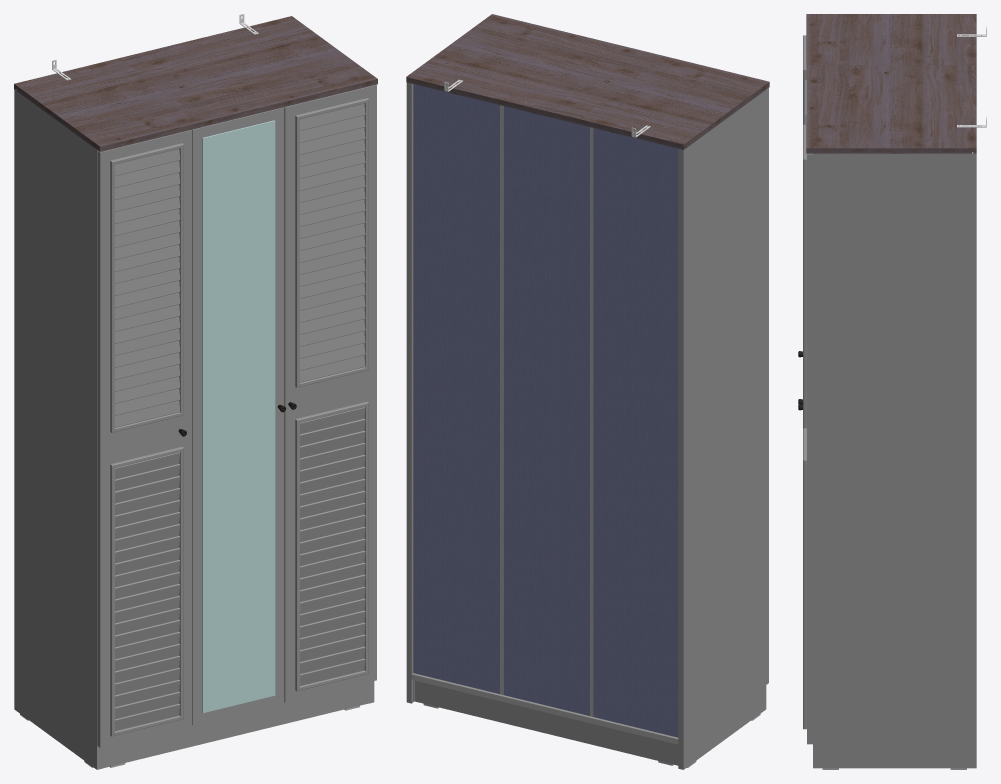
3 views of the same model, side by side, from view 1: azimuth 30°, elevation 25°; view 2: azimuth 150°, elevation 25°; view 3: azimuth 270°, elevation 25° (orthographic).
Parts seen in each view (by area): view 1: 3_kapaklı_dolap_v3_SOL PANEL-1 - Parça, 3_kapaklı_dolap_v3_SRMB_AYN_4MM,-1 - Parça, 3_kapaklı_dolap_v3_ÜST PANEL-1 - Parça, 3_kapaklı_dolap_v3_SAMET_MENTEŞE_1_Kapak_2-1 - Parça, 3_kapaklı_dolap_v3_SAMET_MENTEŞE_2_Kapak_1-1 - Parça, 3_kapaklı_dolap_v3_SAMET_MENTEŞE_1_Kapak_1-1 - Parça, 3_kapaklı_dolap_v3_BAZA-1 - Parça, 3_kapaklı_dolap_v3_SAMET_MENTEŞE_2_Kapak_1-1 - Parça 2, 3_kapaklı_dolap_v3_Alınmış88-35 - Parça, 3_kapaklı_dolap_v3_Alınmış88-40 - Parça, 3_kapaklı_dolap_v3_Alınmış88-42 - Parça, 3_kapaklı_dolap_v3_Alınmış88-29 - Parça (+40 smaller); view 2: 3_kapaklı_dolap_v3_SOL PANEL-1 - Parça, 3_kapaklı_dolap_v3_Arkalık_1_Arkalık-8 - Parça, 3_kapaklı_dolap_v3_Arkalık_1_Arkalık-7 - Parça, 3_kapaklı_dolap_v3_Arkalık_1_Arkalık-1 - Parça, 3_kapaklı_dolap_v3_ÜST PANEL-1 - Parça, 3_kapaklı_dolap_v3_ARKALIK-1 - Parça, 3_kapaklı_dolap_v3_SOL PANEL-1 - Parça 2, 3_kapaklı_dolap_v3_SAĞ PANEL-1 - Parça 2, 3_kapaklı_dolap_v3_Arkalık_1_H Profil-1 - Parça, 3_kapaklı_dolap_v3_Arkalık_1_H Profil-2 - Parça, 3_kapaklı_dolap_v3_ÜST PANEL-1 - Parça 2, 3_kapaklı_dolap_v3_SAĞ PANEL-1 - Parça (+2 smaller); view 3: 3_kapaklı_dolap_v3_SAĞ PANEL-1 - Parça, 3_kapaklı_dolap_v3_ÜST PANEL-1 - Parça, 3_kapaklı_dolap_v3_SAMET_MENTEŞE_1_Kapak_2-1 - Parça 2, PRFL_SRMD2^3_kapaklı_dolap_v3_SAMET_MENTEŞE_2-9 - Parça, PRFL_SRMD2^3_kapaklı_dolap_v3_SAMET_MENTEŞE_2-11 - Parça, 3_kapaklı_dolap_v3_ÜST PANEL-1 - Parça 2.
Boxes of the visible parts, x1=… form: 3_kapaklı_dolap_v3_SOL PANEL-1 - Parça: x1=14, y1=89, x2=96, y2=769; 3_kapaklı_dolap_v3_SRMB_AYN_4MM,-1 - Parça: x1=202, y1=120, x2=275, y2=712; 3_kapaklı_dolap_v3_ÜST PANEL-1 - Parça: x1=14, y1=16, x2=377, y2=146; 3_kapaklı_dolap_v3_SAMET_MENTEŞE_1_Kapak_2-1 - Parça: x1=285, y1=85, x2=376, y2=702; 3_kapaklı_dolap_v3_SAMET_MENTEŞE_2_Kapak_1-1 - Parça: x1=100, y1=130, x2=191, y2=747; 3_kapaklı_dolap_v3_SAMET_MENTEŞE_1_Kapak_1-1 - Parça: x1=192, y1=108, x2=284, y2=724; 3_kapaklı_dolap_v3_BAZA-1 - Parça: x1=102, y1=682, x2=368, y2=768; 3_kapaklı_dolap_v3_SAMET_MENTEŞE_2_Kapak_1-1 - Parça 2: x1=97, y1=130, x2=191, y2=747; 3_kapaklı_dolap_v3_Alınmış88-35 - Parça: x1=300, y1=331, x2=365, y2=382; 3_kapaklı_dolap_v3_Alınmış88-40 - Parça: x1=300, y1=479, x2=365, y2=530; 3_kapaklı_dolap_v3_Alınmış88-42 - Parça: x1=300, y1=443, x2=365, y2=494; 3_kapaklı_dolap_v3_Alınmış88-29 - Parça: x1=300, y1=115, x2=365, y2=166; 3_kapaklı_dolap_v3_SOL PANEL-1 - Parça: x1=683, y1=90, x2=766, y2=769; 3_kapaklı_dolap_v3_Arkalık_1_Arkalık-8 - Parça: x1=413, y1=84, x2=499, y2=693; 3_kapaklı_dolap_v3_Arkalık_1_Arkalık-7 - Parça: x1=503, y1=106, x2=589, y2=715; 3_kapaklı_dolap_v3_Arkalık_1_Arkalık-1 - Parça: x1=593, y1=128, x2=678, y2=737; 3_kapaklı_dolap_v3_ÜST PANEL-1 - Parça: x1=406, y1=14, x2=769, y2=147; 3_kapaklı_dolap_v3_ARKALIK-1 - Parça: x1=414, y1=680, x2=678, y2=765; 3_kapaklı_dolap_v3_SOL PANEL-1 - Parça 2: x1=678, y1=148, x2=683, y2=769; 3_kapaklı_dolap_v3_SAĞ PANEL-1 - Parça 2: x1=406, y1=82, x2=411, y2=703; 3_kapaklı_dolap_v3_Arkalık_1_H Profil-1 - Parça: x1=590, y1=127, x2=593, y2=716; 3_kapaklı_dolap_v3_Arkalık_1_H Profil-2 - Parça: x1=500, y1=105, x2=503, y2=694; 3_kapaklı_dolap_v3_ÜST PANEL-1 - Parça 2: x1=406, y1=77, x2=769, y2=149; 3_kapaklı_dolap_v3_SAĞ PANEL-1 - Parça: x1=411, y1=83, x2=414, y2=703; 3_kapaklı_dolap_v3_SAĞ PANEL-1 - Parça: x1=813, y1=152, x2=976, y2=768; 3_kapaklı_dolap_v3_ÜST PANEL-1 - Parça: x1=806, y1=14, x2=976, y2=148; 3_kapaklı_dolap_v3_SAMET_MENTEŞE_1_Kapak_2-1 - Parça 2: x1=807, y1=153, x2=812, y2=744; PRFL_SRMD2^3_kapaklı_dolap_v3_SAMET_MENTEŞE_2-9 - Parça: x1=803, y1=159, x2=806, y2=428; PRFL_SRMD2^3_kapaklı_dolap_v3_SAMET_MENTEŞE_2-11 - Parça: x1=803, y1=460, x2=806, y2=729; 3_kapaklı_dolap_v3_ÜST PANEL-1 - Parça 2: x1=806, y1=148, x2=976, y2=153.
Size of the model in its own units: 0.97 by 2.12 by 0.5741.
86 materials, 5 textured.
